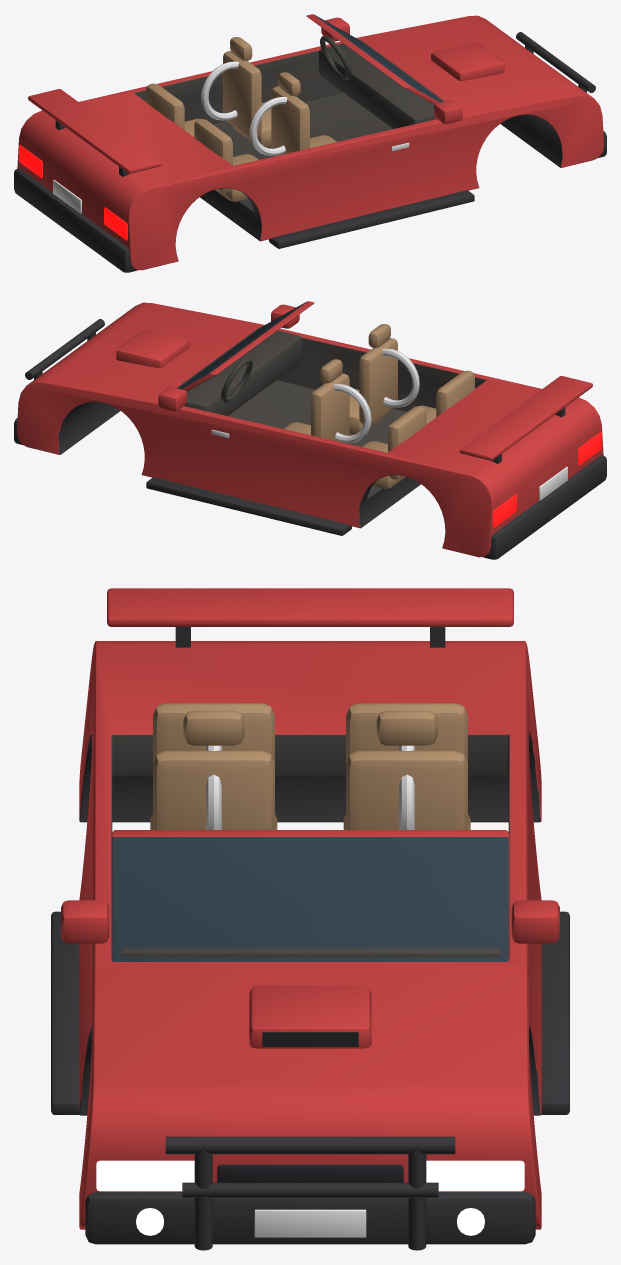
Rendered from conversivel.glb.
The picture shows the model from 3 angles, top to bottom: view 1: azimuth 30°, elevation 25°; view 2: azimuth 150°, elevation 25°; view 3: azimuth 270°, elevation 25°; orthographic projection. The views are drawn at different scales.
Parts seen in each view (by area): view 1: carroceria, painel, asa, parachoque_t, estribo, encosto, encosto.001, tomada, parabrisa, encosto.003, encosto.002, qm_barra (+11 smaller); view 2: carroceria, painel, asa, parachoque_t, estribo.001, encosto.001, encosto, tomada, parabrisa, encosto.002, encosto.003, qm_barra (+11 smaller); view 3: carroceria, parabrisa, parachoque_d, asa, encosto, encosto.001, tomada, qm_barra, estribo, estribo.001, painel, qm_barra2 (+15 smaller).
Boxes of the visible parts, bbox=[...] form: carroceria: bbox=[17, 15, 603, 270]; painel: bbox=[318, 40, 444, 128]; asa: bbox=[28, 89, 161, 173]; parachoque_t: bbox=[14, 168, 138, 272]; estribo: bbox=[269, 190, 474, 248]; encosto: bbox=[223, 51, 261, 137]; encosto.001: bbox=[271, 86, 309, 156]; tomada: bbox=[431, 42, 504, 80]; parabrisa: bbox=[306, 14, 442, 104]; encosto.003: bbox=[194, 119, 232, 192]; encosto.002: bbox=[146, 83, 184, 129]; qm_barra: bbox=[516, 32, 595, 92]; carroceria: bbox=[17, 302, 603, 557]; painel: bbox=[176, 327, 302, 415]; asa: bbox=[459, 376, 592, 460]; parachoque_t: bbox=[482, 455, 606, 559]; estribo.001: bbox=[146, 477, 351, 535]; encosto.001: bbox=[359, 338, 397, 424]; encosto: bbox=[311, 373, 349, 443]; tomada: bbox=[116, 329, 189, 367]; parabrisa: bbox=[178, 301, 314, 391]; encosto.002: bbox=[388, 406, 426, 479]; encosto.003: bbox=[436, 370, 474, 416]; qm_barra: bbox=[25, 319, 104, 379]; carroceria: bbox=[79, 641, 541, 1229]; parabrisa: bbox=[111, 830, 509, 961]; parachoque_d: bbox=[85, 1192, 535, 1244]; asa: bbox=[107, 588, 513, 626]; encosto: bbox=[346, 750, 467, 829]; encosto.001: bbox=[153, 750, 274, 829]; tomada: bbox=[249, 985, 371, 1048]; qm_barra: bbox=[165, 1136, 455, 1154]; estribo: bbox=[51, 911, 79, 1114]; estribo.001: bbox=[541, 911, 569, 1114]; painel: bbox=[119, 947, 501, 957]; qm_barra2: bbox=[182, 1182, 438, 1197].
Bounding box in the file's own units: 4.48 × 1.14 × 2.04.
